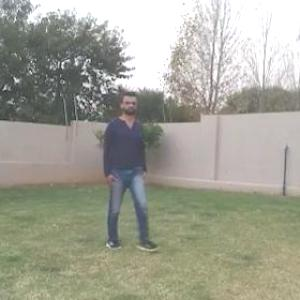follow: (108, 89, 144, 229)
